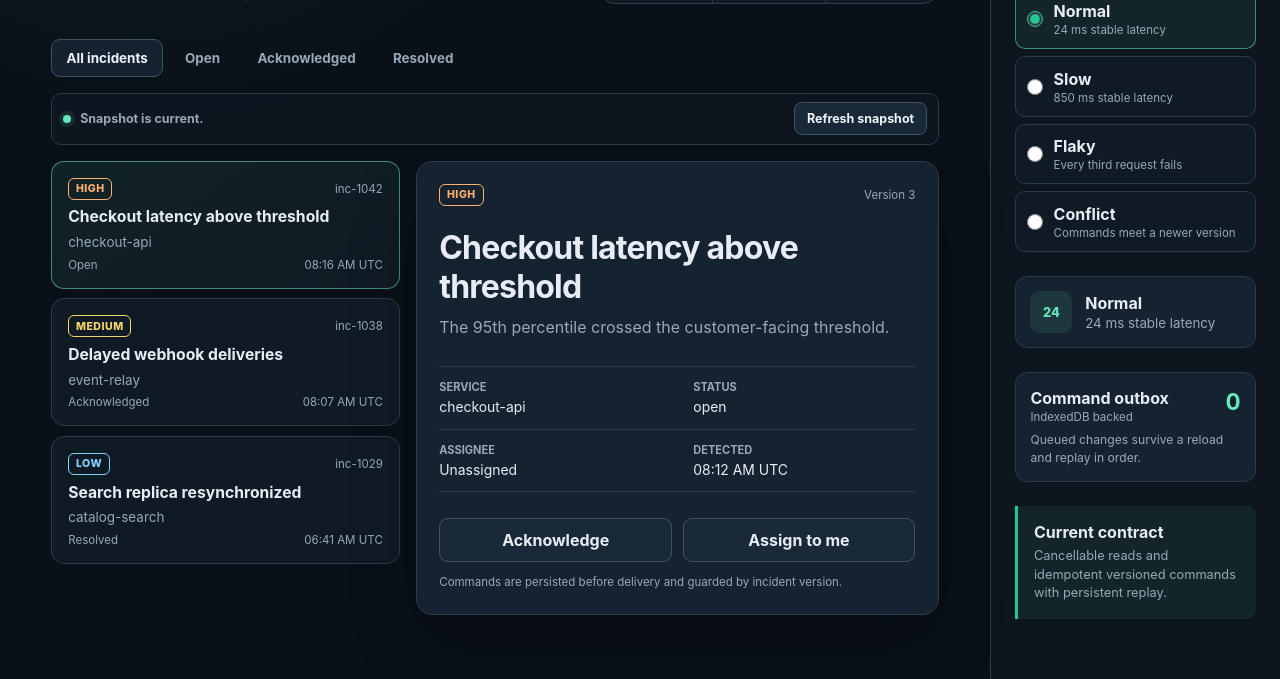
Test case: IncidentConsole › persists an optimistic acknowledgement while offline
(page scrolled)
Expected: the button "Checkout latency above threshold" is shown, [51,160,400,288]
Click the button "Acknowledge": (556, 540) [439,518,672,562]
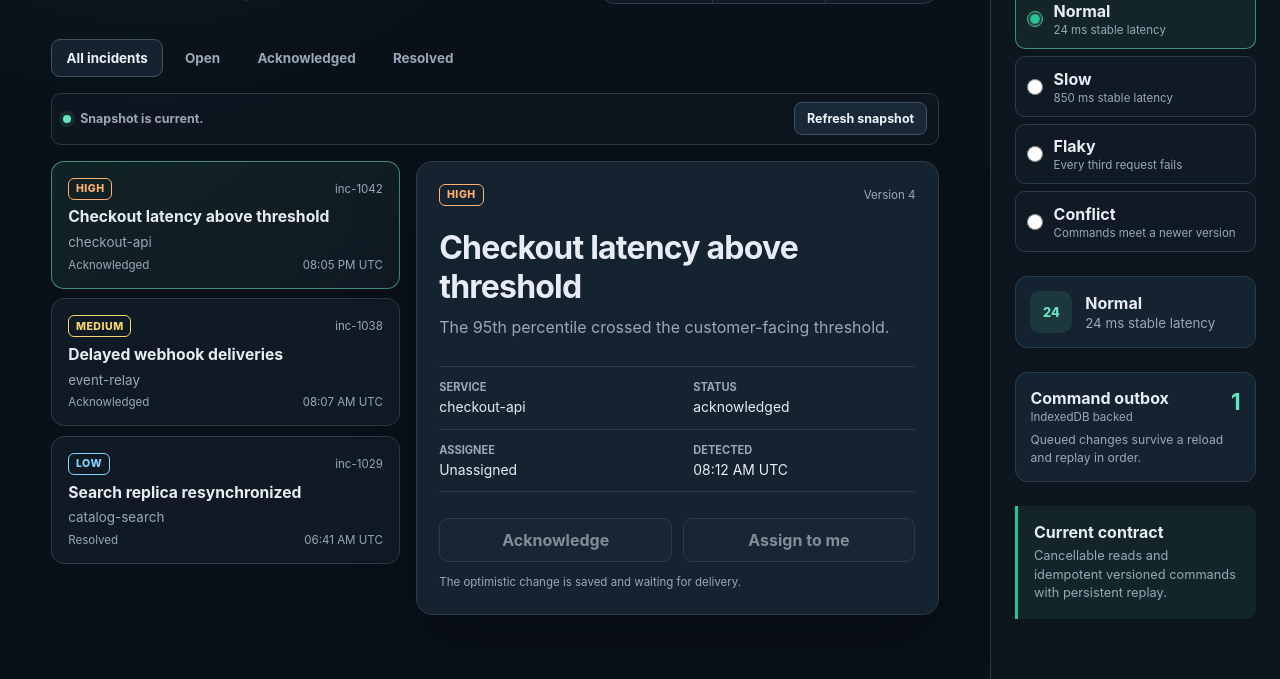
Now the text "acknowledged" below "Status" is shown, box [693,399,790,415]
Now the text "Version 4" is shown, box [864,188,915,202]
Now the text "1" next to "Command outbox" is shown, box [1231,388,1241,415]
